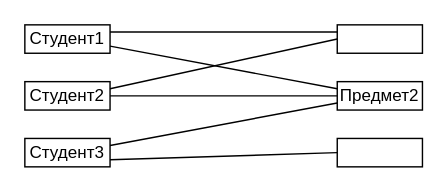
Some shapes in this 447 by 192 pixel diagram are drawn without their labels. Here are the shapes that lost their labels. From the top down, the box of each, then its label:
(336, 23, 422, 53): Предмет1
(336, 137, 422, 167): Предмет3
